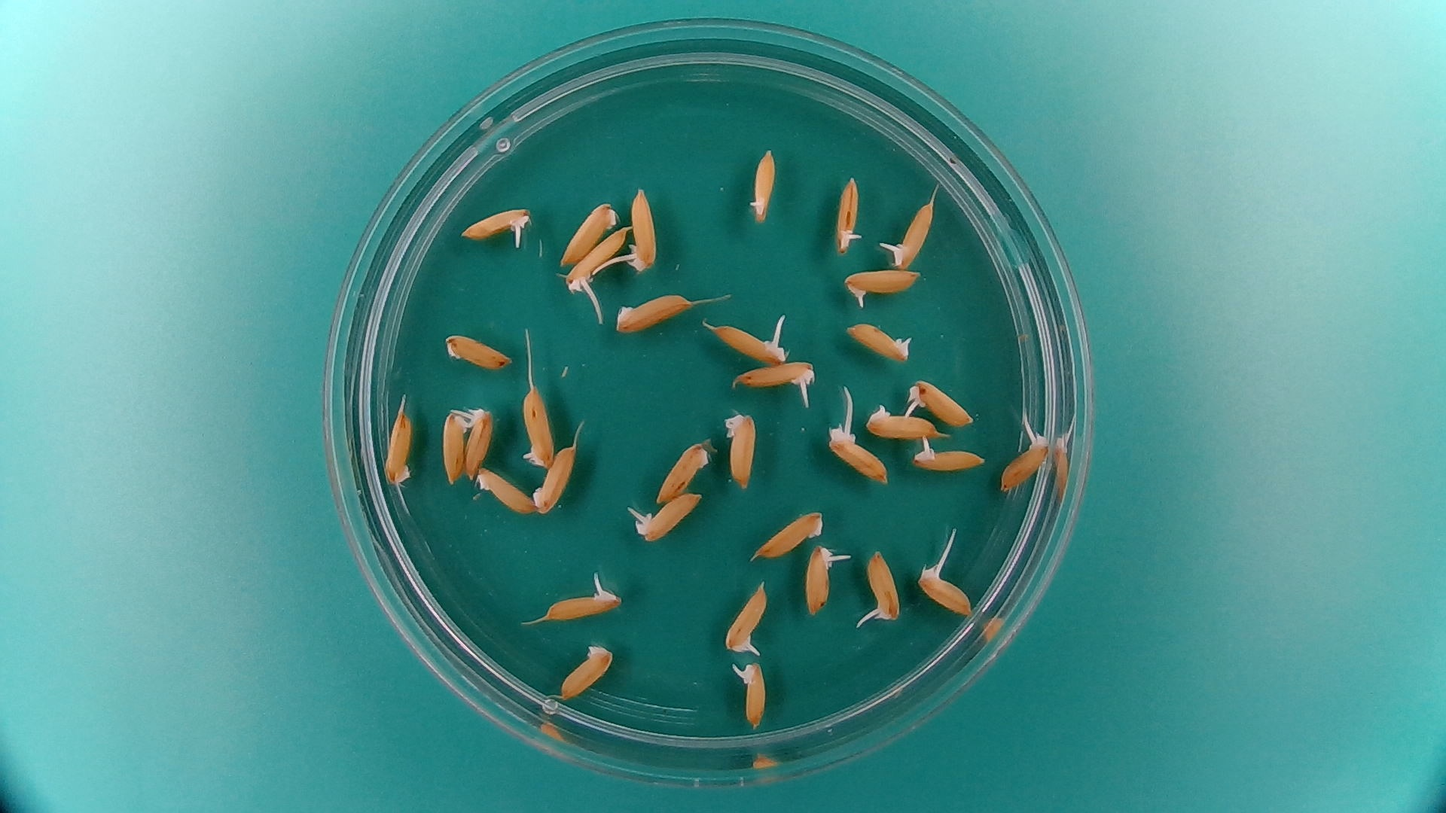no: (748, 505, 827, 560), (557, 197, 620, 265), (653, 439, 715, 504), (609, 287, 694, 334), (531, 441, 581, 516), (555, 640, 615, 701), (432, 406, 471, 488), (474, 464, 535, 516), (381, 399, 416, 488), (721, 409, 758, 492), (441, 330, 515, 371)
yes: (561, 224, 630, 296), (824, 419, 891, 486), (629, 487, 708, 543), (539, 576, 624, 623), (840, 263, 926, 309), (705, 317, 789, 364), (721, 577, 770, 656), (904, 375, 977, 428), (882, 197, 935, 269), (996, 426, 1052, 494), (914, 554, 975, 616), (732, 357, 819, 399), (623, 183, 662, 273), (859, 546, 902, 626), (519, 382, 558, 469), (861, 400, 942, 440), (802, 542, 845, 617), (843, 318, 916, 362), (459, 203, 532, 245), (728, 657, 768, 732), (909, 437, 990, 473), (831, 172, 864, 257), (461, 403, 495, 483), (745, 145, 778, 226)
